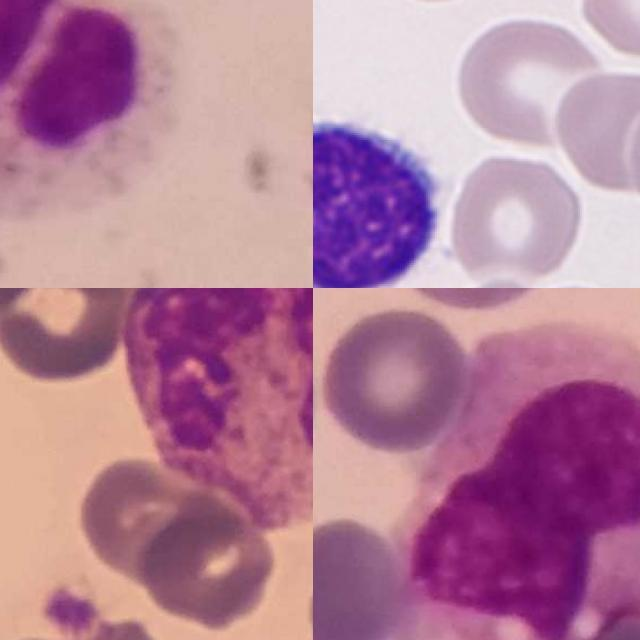Lymphocyte: (313, 98, 457, 288)
Monocyte: (393, 321, 640, 640)
Neutrophil: (121, 288, 313, 530), (0, 0, 180, 218)
RBC: (451, 10, 612, 154), (442, 150, 589, 284), (548, 63, 640, 195), (473, 0, 640, 67), (571, 0, 640, 69), (625, 89, 640, 240)
